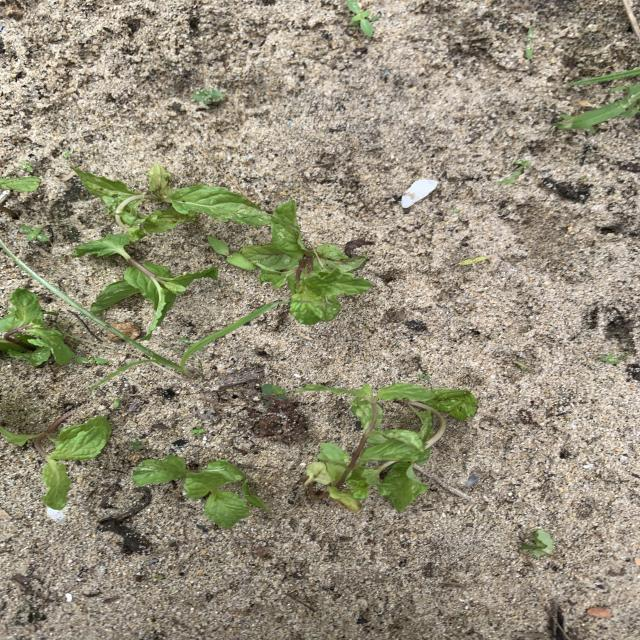crop: (305, 383, 475, 511), (224, 201, 371, 323), (73, 164, 270, 246), (87, 232, 217, 333), (1, 415, 110, 507), (133, 456, 267, 527), (1, 288, 74, 364)
weed: (3, 243, 279, 375), (557, 84, 639, 128), (348, 2, 379, 35), (521, 530, 555, 558), (499, 160, 529, 183), (192, 88, 223, 103), (262, 385, 286, 404), (22, 226, 48, 241), (73, 356, 109, 364), (600, 353, 627, 363), (459, 257, 487, 263), (191, 426, 205, 435), (130, 440, 143, 449), (514, 361, 528, 369), (112, 398, 119, 407)
